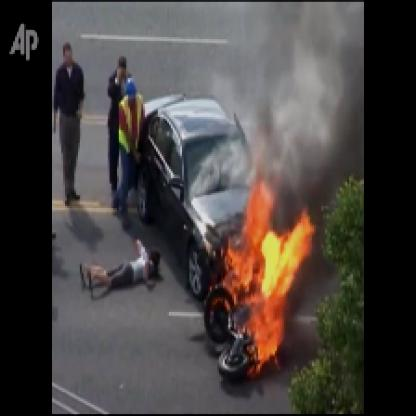Fire: (206, 172, 318, 382)
Smoke: (234, 2, 364, 173)
